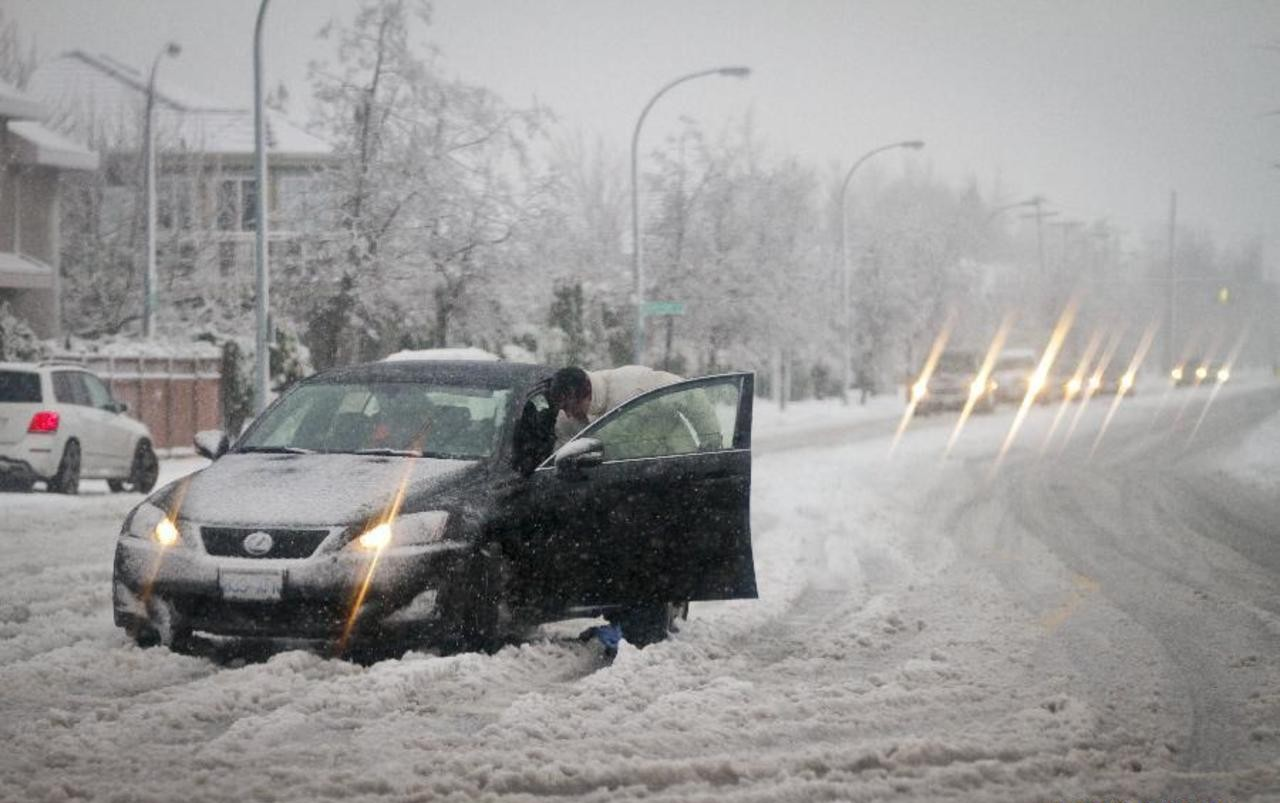car: (109, 353, 759, 638), (2, 362, 164, 493), (913, 350, 994, 415), (996, 350, 1045, 402), (1086, 359, 1142, 399), (1037, 360, 1082, 401), (1171, 353, 1213, 388)
person: (549, 365, 726, 461)
